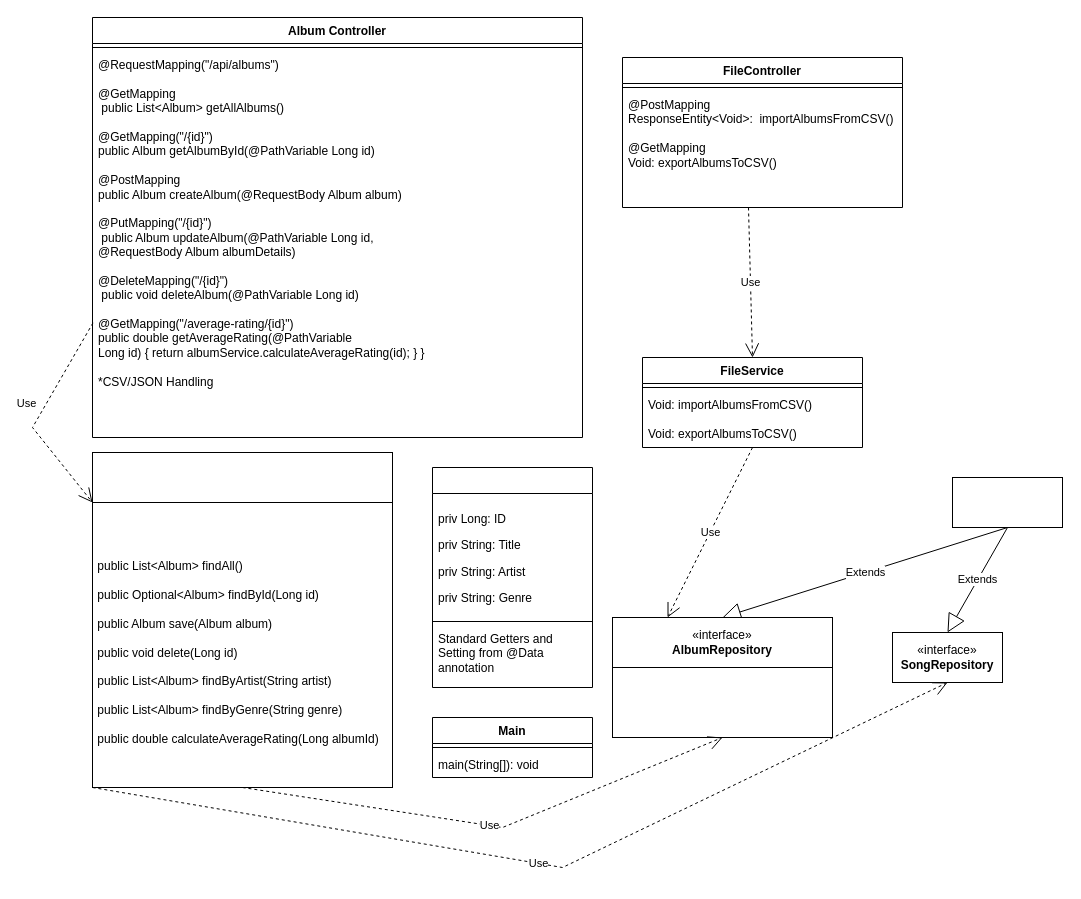
The diagram is 1081 pixels wide and 899 high, and some of its shapes have lost their labels. Here are the shapes that lost their labels. From the top down, the box of each, then its label:
(92, 452, 392, 502): AlbumService
(952, 476, 1062, 528): JPARepository
(432, 466, 592, 688): Album
(612, 666, 832, 738): List<Album> findByArtist(String artist); List<Album> findByGenre(String genre);
